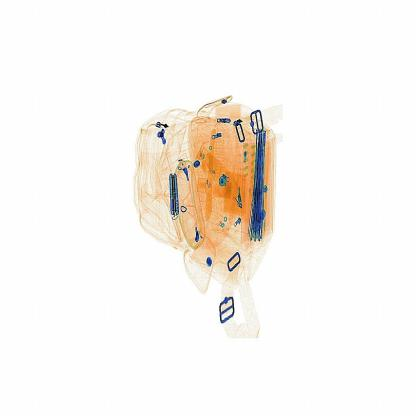scissors: (163, 166, 187, 222)
